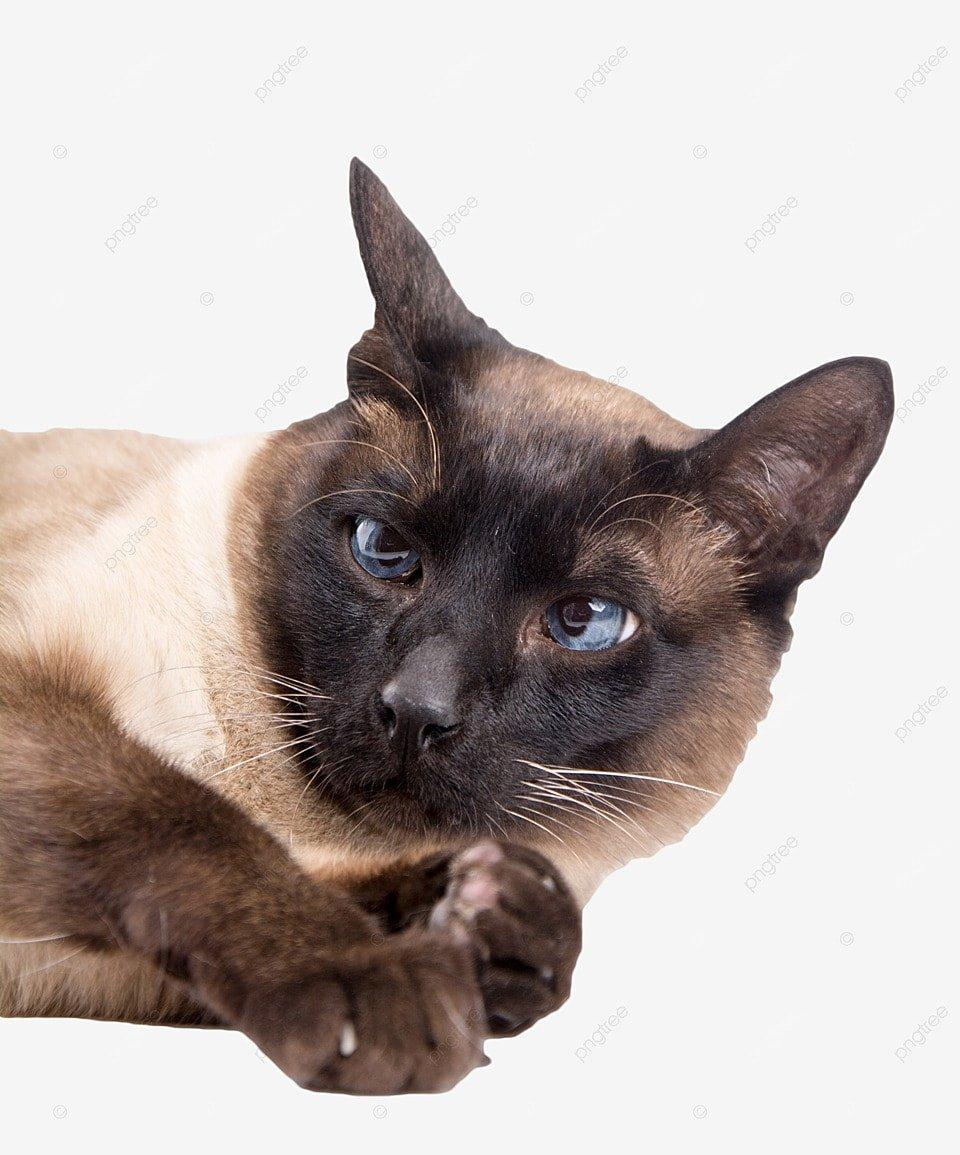siamese: (223, 129, 924, 898)
